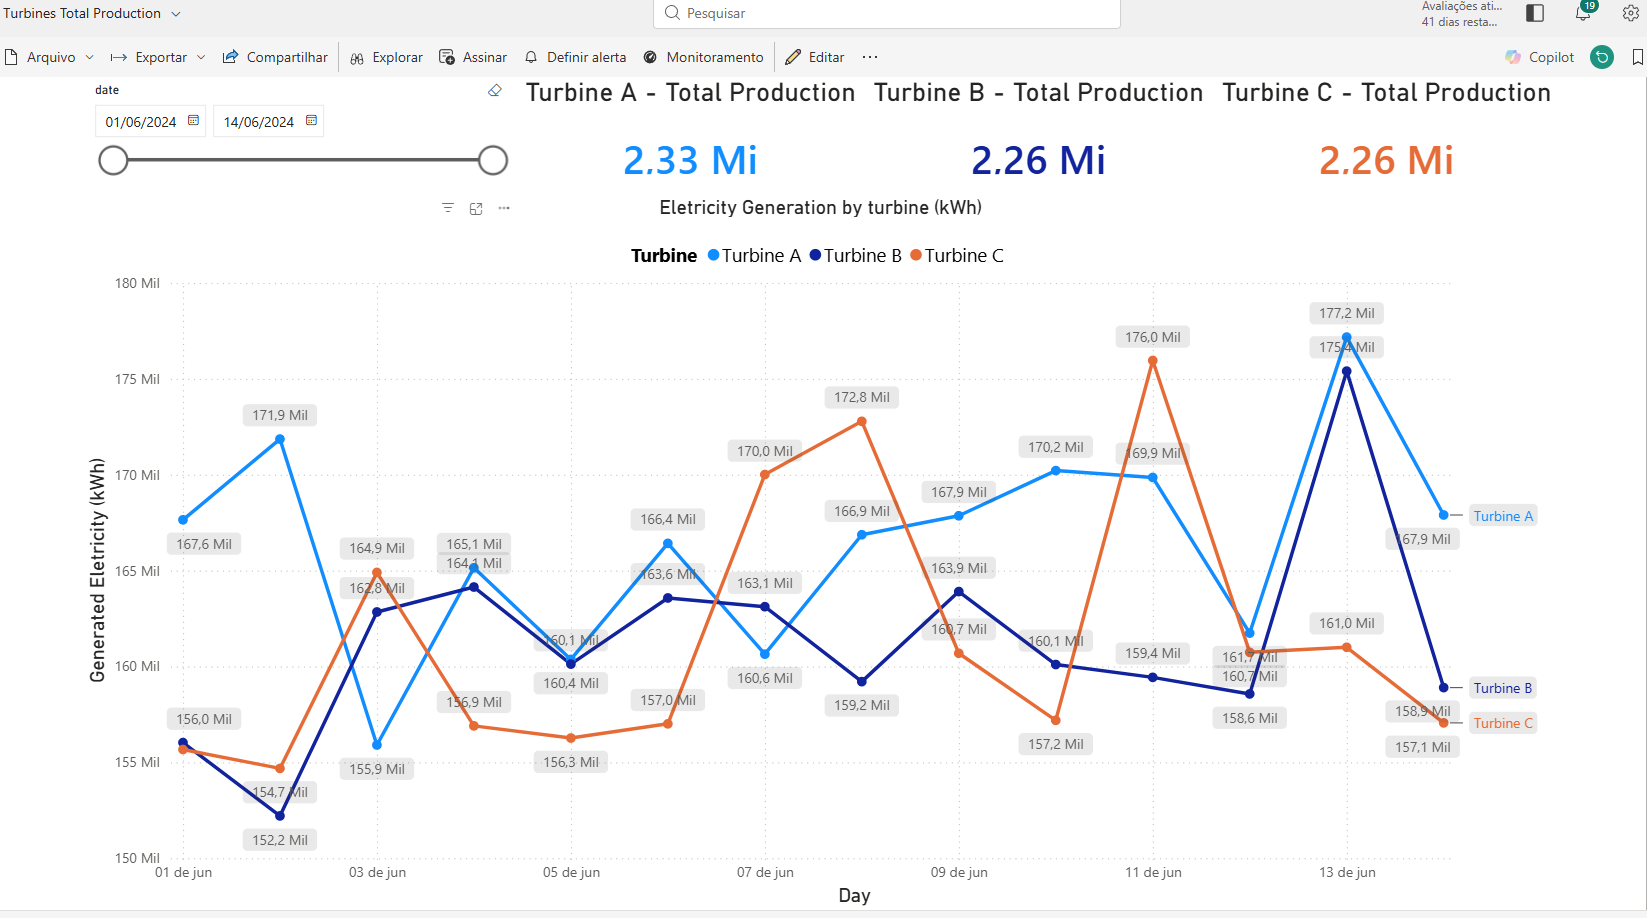

This screenshot's page, from the dashboard's own definition file:
{"tool":"powerbi","page":{"name":"Página 1","canvas":[1280,720],"ordinal":0},"visuals":[{"type":"lineChart","title":"Eletricity Generation by turbine (kWh)","fields":{"Category":["F_prod_final.date"],"Series":["Dim_turbina.turbine_name"],"Y":["Sum(F_prod_final.energy_produced)"]},"box":[0,101.6,1280,619.2],"z":0},{"type":"cardVisual","title":"Turbine A - Total Production","fields":{"Data":["Sum(F_prod_final.energy_produced)"]},"box":[377.7,0,300.3,101.6],"z":1},{"type":"cardVisual","title":"Turbine B - Total Production","fields":{"Data":["Sum(F_prod_final.energy_produced)"]},"box":[678.5,0,300.3,101.6],"z":2},{"type":"cardVisual","title":"Turbine C - Total Production","fields":{"Data":["Sum(F_prod_final.energy_produced)"]},"box":[979.2,0,300.3,101.6],"z":3},{"type":"slicer","fields":{"Values":["Dim_data.date"]},"box":[0,0,377.7,101.9],"z":4}]}

Visuals, with their boxes on the page's 1280x720 design canvas (x1, y1, x2, y2). These are canvas units, not pixel positions in the 1647x918 screenshot, which may show the page scaled, cropped or inside an application window:
"Eletricity Generation by turbine (kWh)" lineChart: Rect(0, 102, 1280, 721)
"Turbine A - Total Production" cardVisual: Rect(378, 0, 678, 102)
"Turbine B - Total Production" cardVisual: Rect(678, 0, 979, 102)
"Turbine C - Total Production" cardVisual: Rect(979, 0, 1280, 102)
slicer - Dim_data.date: Rect(0, 0, 378, 102)
